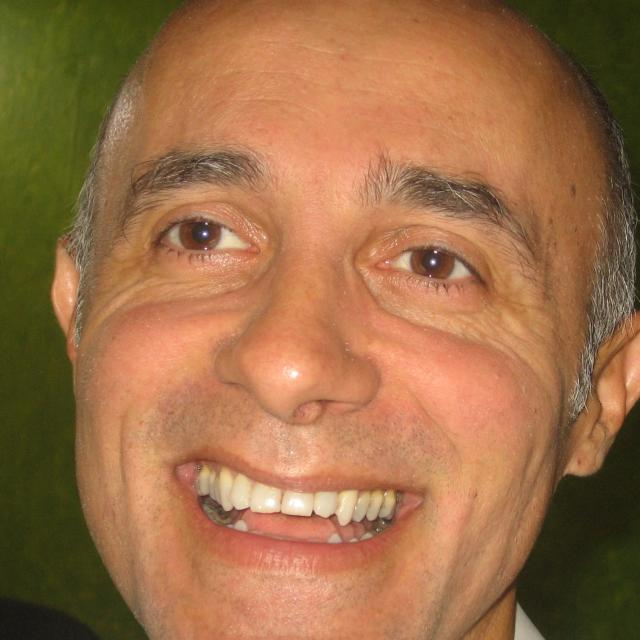Depress: (69, 4, 640, 640)
